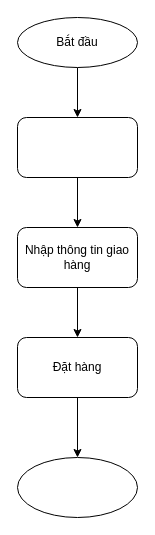
Image size: 155x535. Some labels were removed from this diagram. Each missing label, with the centre of its shape:
Kết thúc: point (77, 487)
Thêm sản phẩm vào giỏ hàng: point (77, 147)
